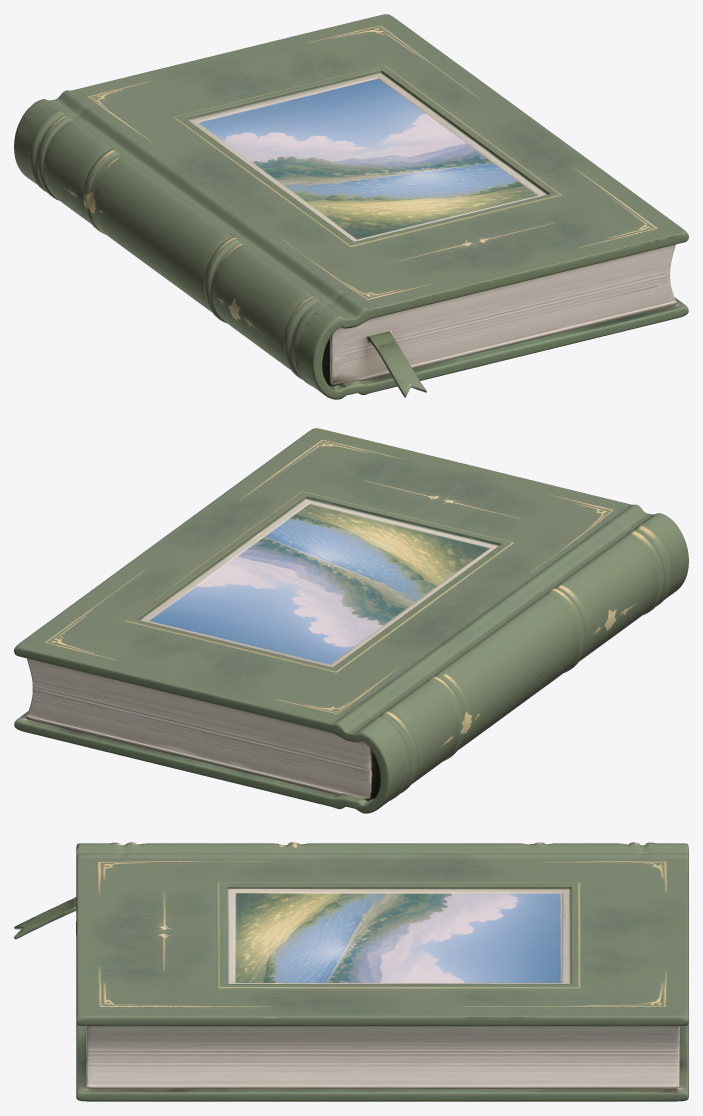
File: greenbook.glb
3 views of the same model, one above another, from view 1: azimuth 30°, elevation 25°; view 2: azimuth 150°, elevation 25°; view 3: azimuth 270°, elevation 25° (orthographic).
Parts seen in each view (by area): view 1: node_0; view 2: node_0; view 3: node_0.
Part boxes in pixels (box(x1,y1,x2,y2)): node_0: box(14, 14, 688, 399); node_0: box(14, 428, 688, 813); node_0: box(14, 842, 688, 1101).
Bounding box in the file's own units: 0.6569 × 0.1443 × 0.9986.
1 material, 1 textured.
